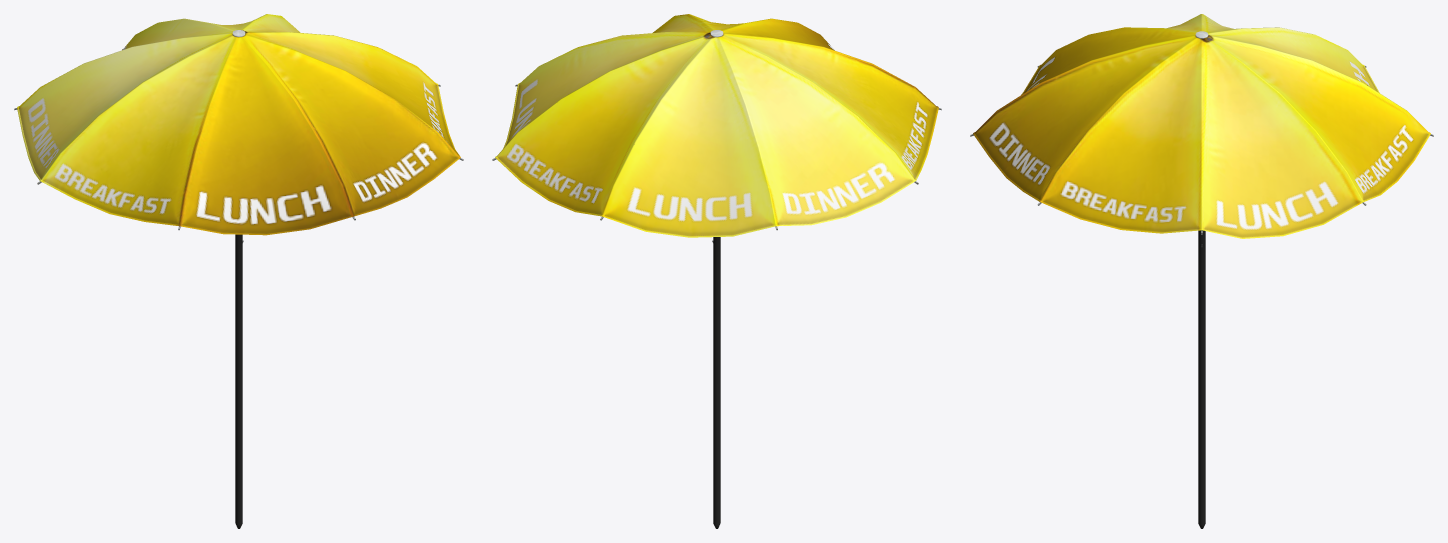
The model's file is Parasol4.fbx.
The picture shows the model from 3 angles, left to right: view 1: azimuth 30°, elevation 25°; view 2: azimuth 150°, elevation 25°; view 3: azimuth 270°, elevation 25°; orthographic projection.
Parts seen in each view (by area): view 1: Parasol4_LOD0; view 2: Parasol4_LOD0; view 3: Parasol4_LOD0.
Part boxes in pixels (<box>): Parasol4_LOD0: <box>14,14,463,528</box>; Parasol4_LOD0: <box>492,14,941,528</box>; Parasol4_LOD0: <box>970,14,1433,528</box>.
Size of what is drawn, in the model's own units: 203 by 239 by 203.
